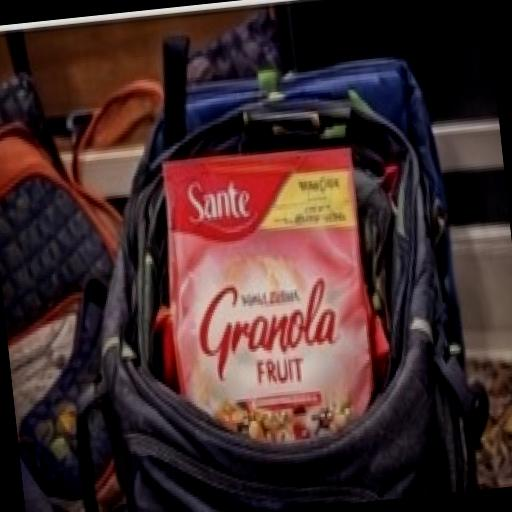granola: (117, 76, 406, 507)
